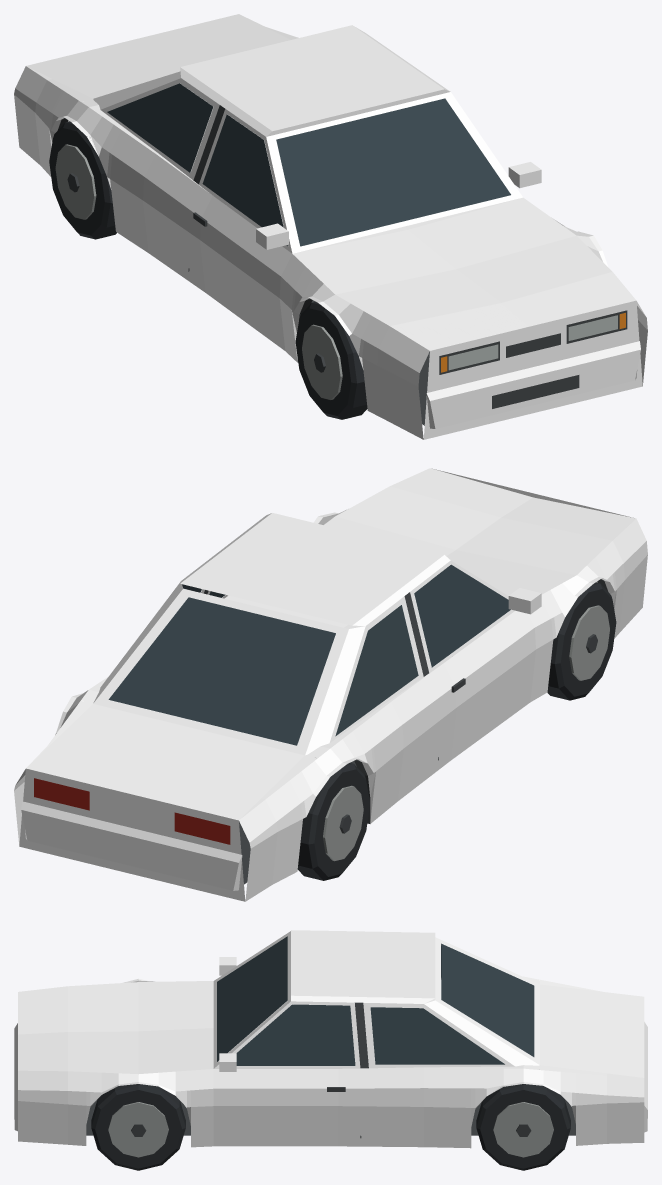
File: cutler_rattler.glb
3 renders of one model, top to bottom at view 1: azimuth 30°, elevation 25°; view 2: azimuth 150°, elevation 25°; view 3: azimuth 270°, elevation 25°, orthographic. The views are drawn at different scales.
Parts seen in each view (by area): view 1: cutler_rattler; view 2: cutler_rattler; view 3: cutler_rattler.
Part boxes in pixels (x1,y1,x2,y2): cutler_rattler: (14,14,647,439); cutler_rattler: (14,468,647,901); cutler_rattler: (14,930,647,1170).
Size of the model in its own units: 1.75 by 1.23 by 4.46.
8 materials, 1 textured.
